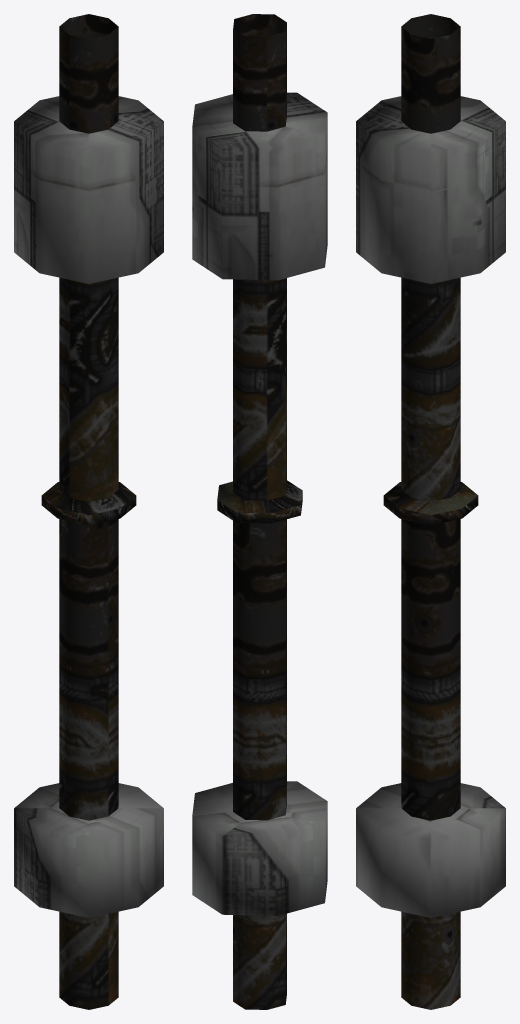
The model's file is Piston.obj.
3 views of the same model, side by side, from view 1: azimuth 90°, elevation 25°; view 2: azimuth 150°, elevation 25°; view 3: azimuth 270°, elevation 25° (orthographic).
Visible parts, largest first — view 1: pCube14 Piston4, Piston4 pCube38; view 2: pCube14 Piston4, Piston4 pCube38; view 3: pCube14 Piston4, Piston4 pCube38.
Part boxes in pixels (x1=…): pCube14 Piston4: x1=41, y1=14, x2=136, y2=1009; Piston4 pCube38: x1=14, y1=96, x2=163, y2=917; pCube14 Piston4: x1=217, y1=14, x2=302, y2=1009; Piston4 pCube38: x1=192, y1=92, x2=327, y2=915; pCube14 Piston4: x1=383, y1=14, x2=478, y2=1009; Piston4 pCube38: x1=356, y1=96, x2=505, y2=917.
Bounding box in the file's own units: 62.49 × 447 × 62.49.
